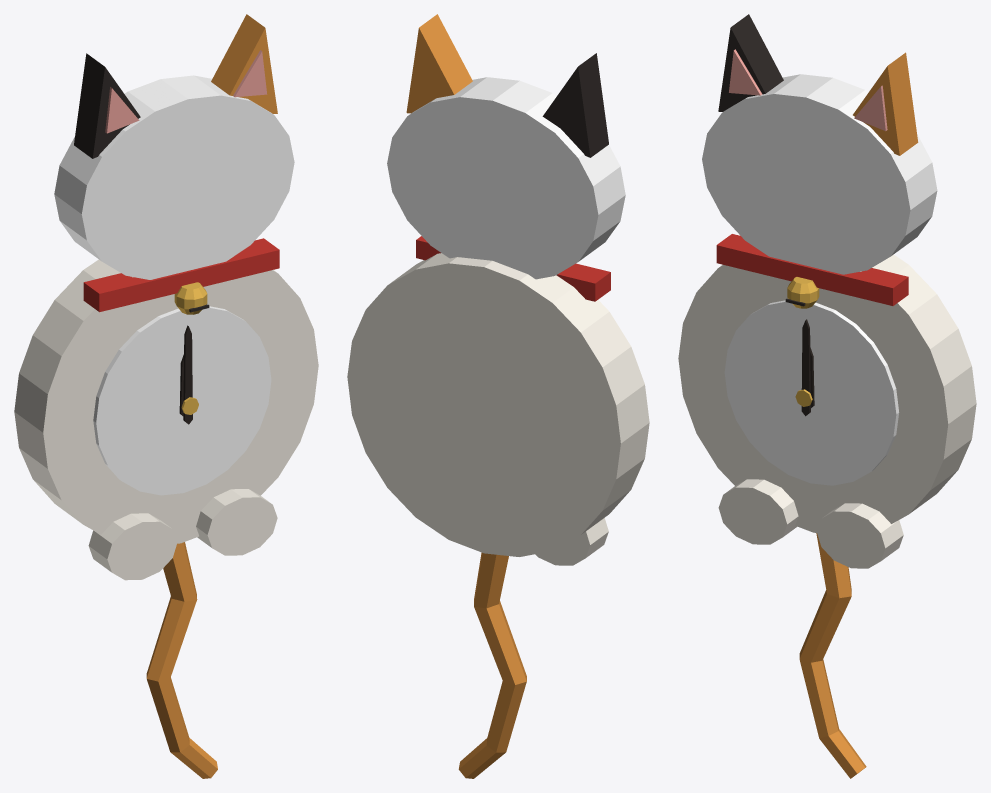
The model's file is catclock.glb.
The picture shows the model from 3 angles, left to right: view 1: azimuth 30°, elevation 25°; view 2: azimuth 150°, elevation 25°; view 3: azimuth 330°, elevation 25°; orthographic projection. The views are drawn at different scales.
Visible parts, largest first — view 1: CatClockBody, CatClockTail, CatClockMinute; view 2: CatClockBody, CatClockTail; view 3: CatClockBody, CatClockTail, CatClockMinute.
Part boxes in pixels (box(x1,y1,x2,y2)): CatClockBody: box(14, 14, 318, 580); CatClockTail: box(146, 542, 217, 778); CatClockMinute: box(183, 325, 192, 424); CatClockBody: box(347, 14, 649, 565); CatClockTail: box(458, 552, 526, 778); CatClockBody: box(678, 14, 976, 568); CatClockTail: box(799, 533, 866, 778); CatClockMinute: box(801, 319, 810, 416).
Size of the model in its own units: 0.22 by 0.5713 by 0.0662.
